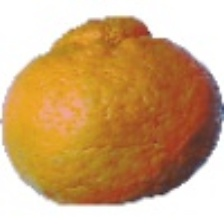tangerine: (33, 19, 207, 189)
